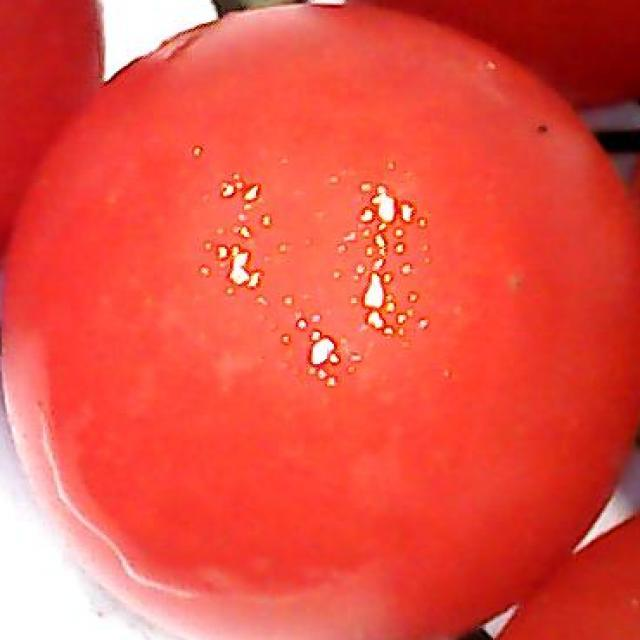Healthy: (3, 16, 640, 640)
